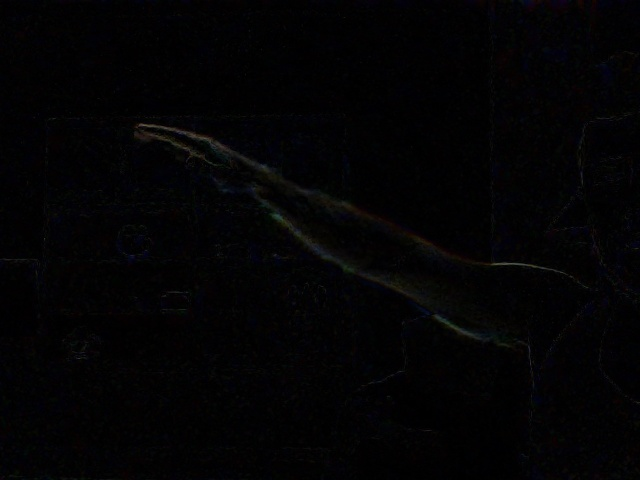hand_pa: (136, 104, 267, 197)
